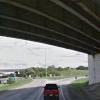Bridge: (5, 4, 94, 62)
